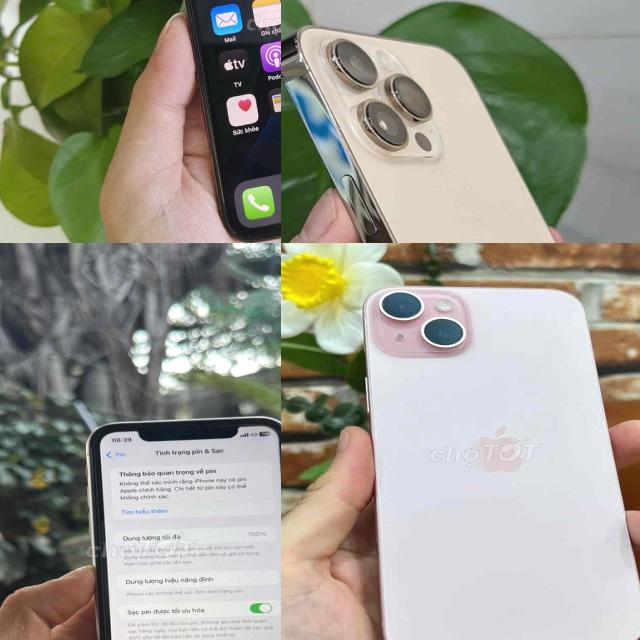gen_12_13: (345, 284, 640, 640)
gen_16: (281, 10, 640, 243)
gen_x_xs: (87, 416, 281, 640), (158, 0, 281, 243)
scratch: (386, 87, 406, 105), (361, 117, 377, 133), (334, 52, 346, 70)
